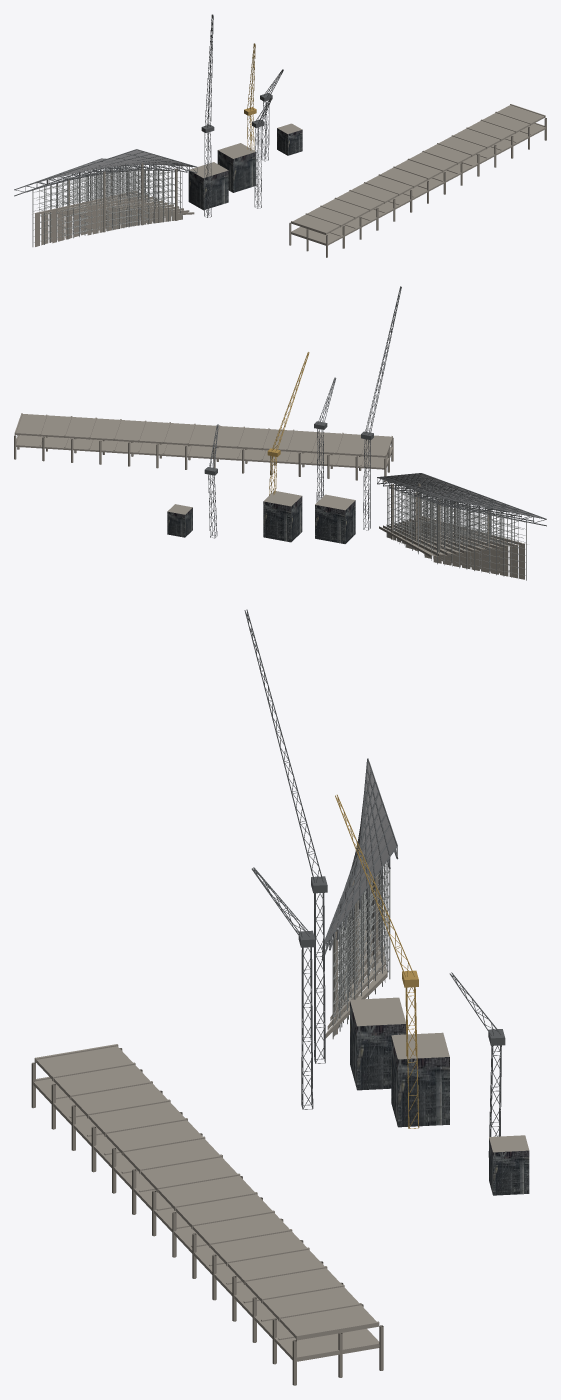
The picture shows the model from 3 angles, top to bottom: view 1: azimuth 30°, elevation 25°; view 2: azimuth 150°, elevation 25°; view 3: azimuth 270°, elevation 25°; orthographic projection. The views are drawn at different scales.
Parts seen in each view (by area): view 1: NS Square waterfront grandstand works; view 2: NS Square waterfront grandstand works; view 3: NS Square waterfront grandstand works.
Boxes of the visible parts, x1,y1,x2,y2 form: NS Square waterfront grandstand works: [14, 14, 546, 257]; NS Square waterfront grandstand works: [14, 286, 546, 580]; NS Square waterfront grandstand works: [31, 609, 529, 1385].
Bounding box in the file's own units: 227 × 92.44 × 95.14.
Materials: 6 (1 with a texture image).
